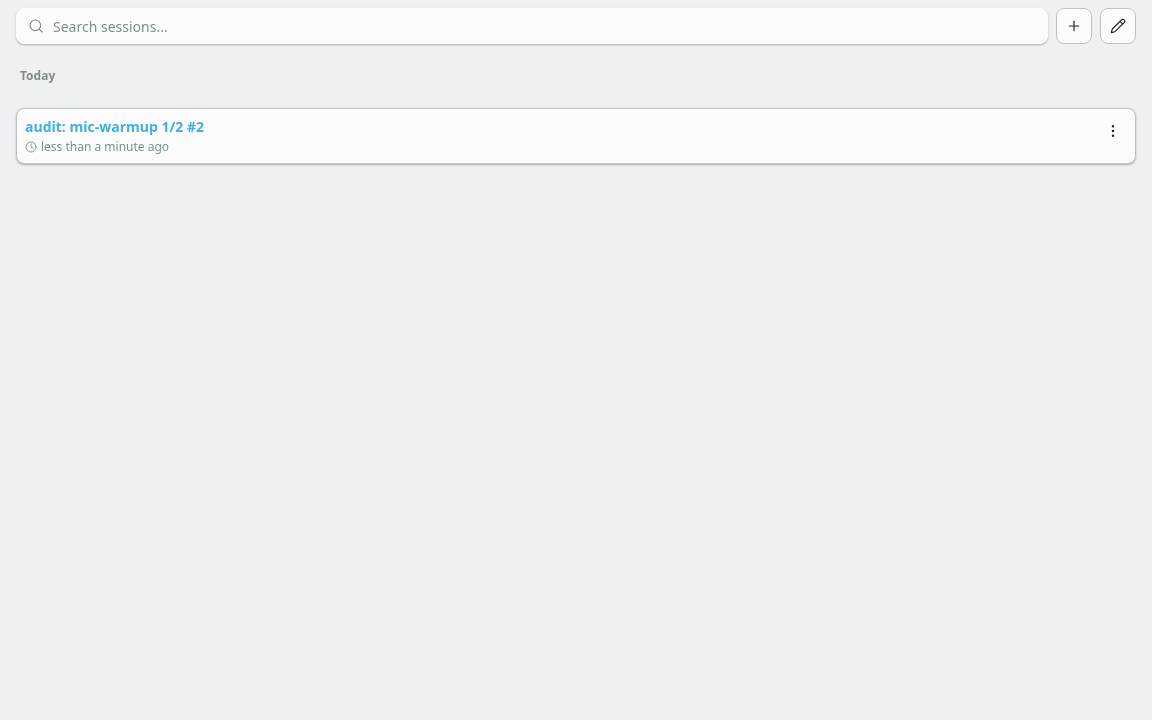
Scenario: SessionList › deduplicates repeated session records from the same workspace directory
Expected: the number of headings "audit: mic-warmup 1/2 #2" is 1, [25,117,204,137]
Click the button named "Manage sessions" at (1118, 26), box [1100,8,1136,44]
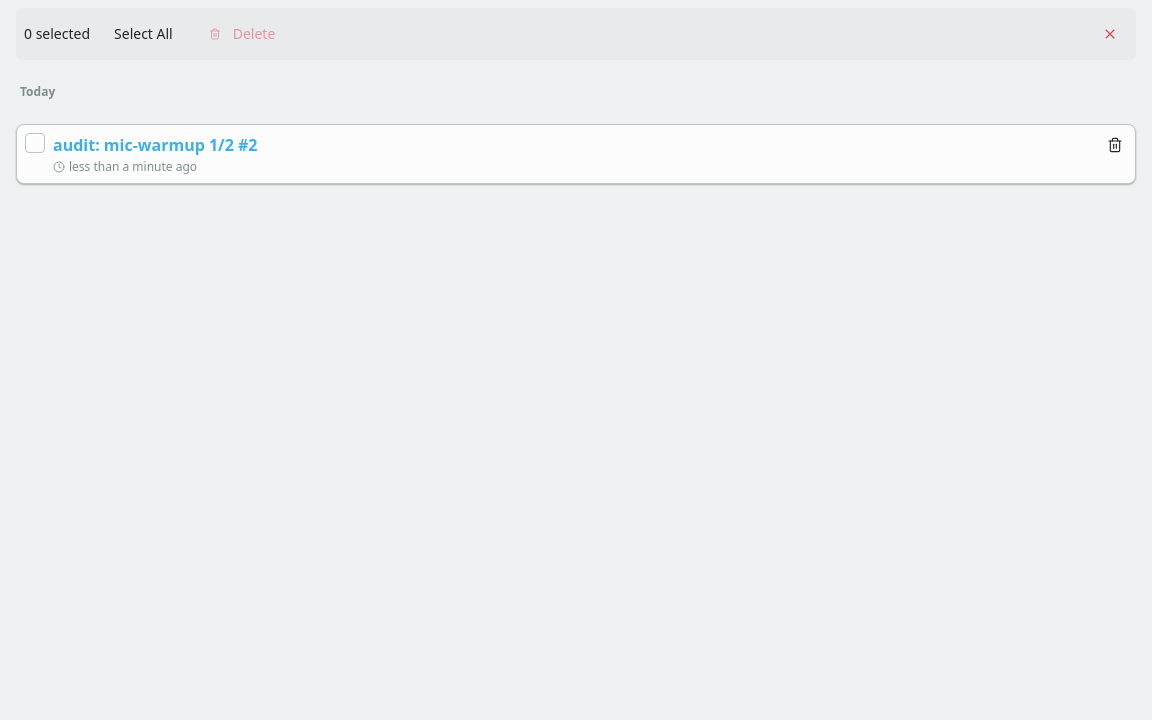
Click the button "Select All" at (143, 34), box [98,16,189,52]
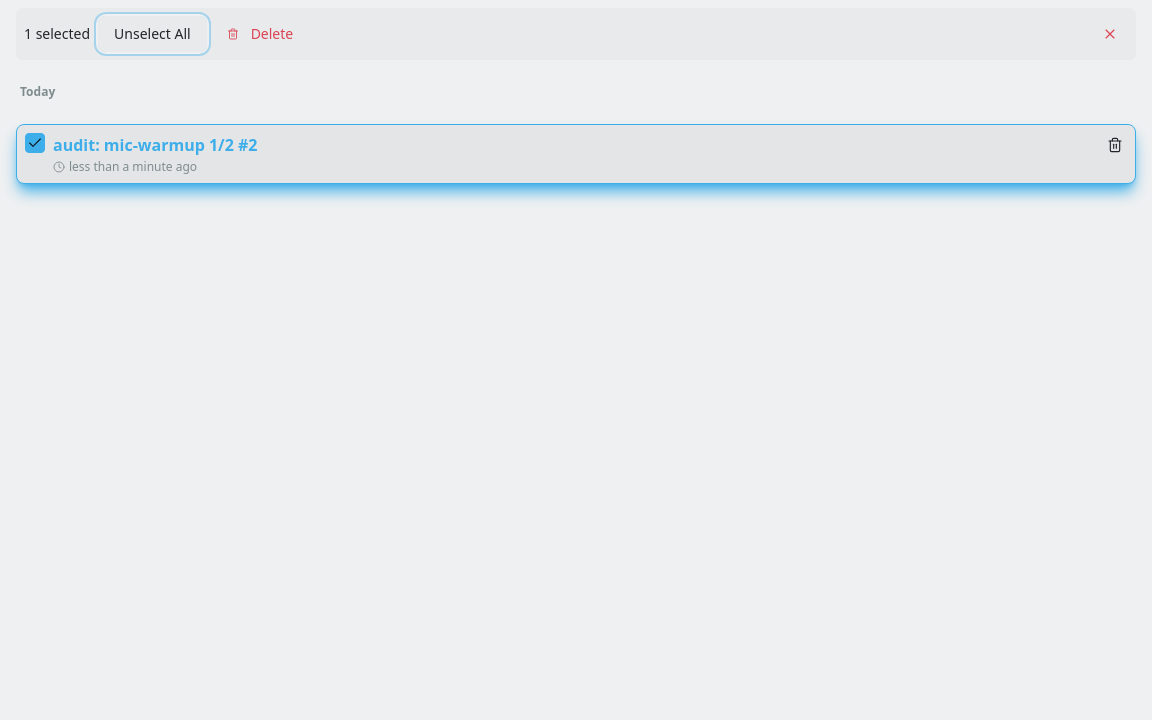
Result: the text "1 selected" is shown at [24,24,90,44]
